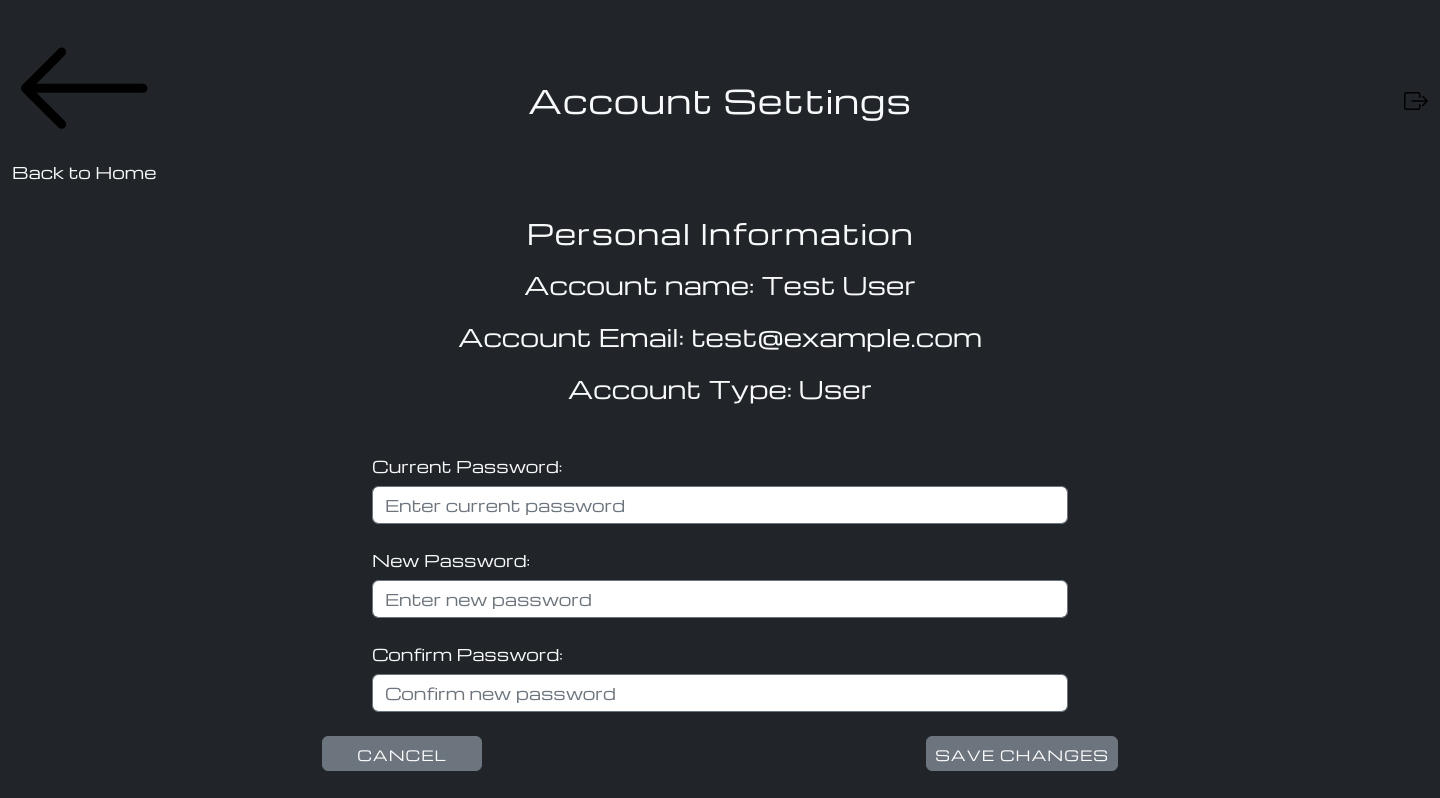
it: AccountSettings Component › handles password change API error
The image size is (1440, 798).
# Fill out form
Type "wrongpassword" into the password field labelled "Current Password:" at (720, 505), box [372,486,1068,524]
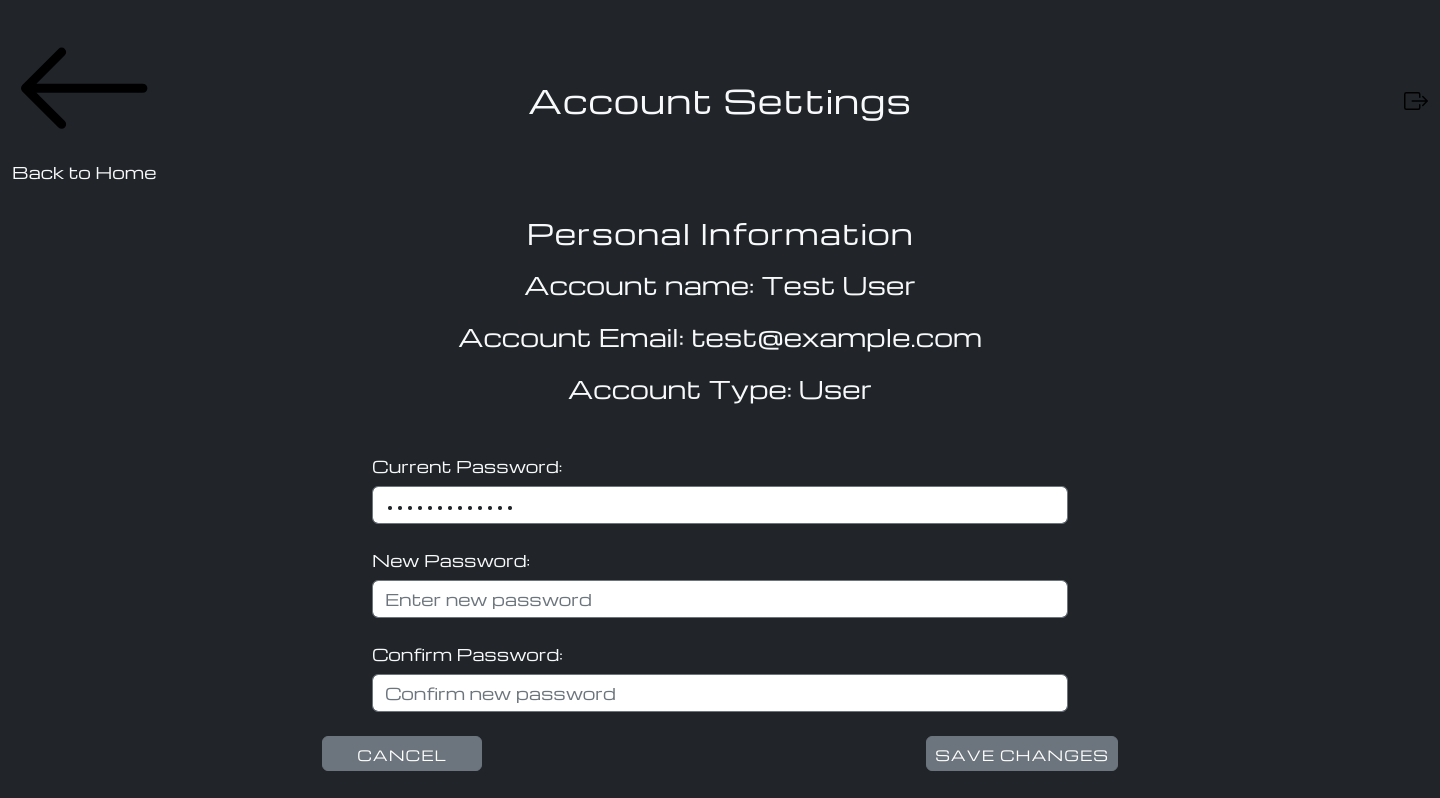
Type "newpassword123" into the password field labelled "New Password:" at (720, 599), box [372,580,1068,618]
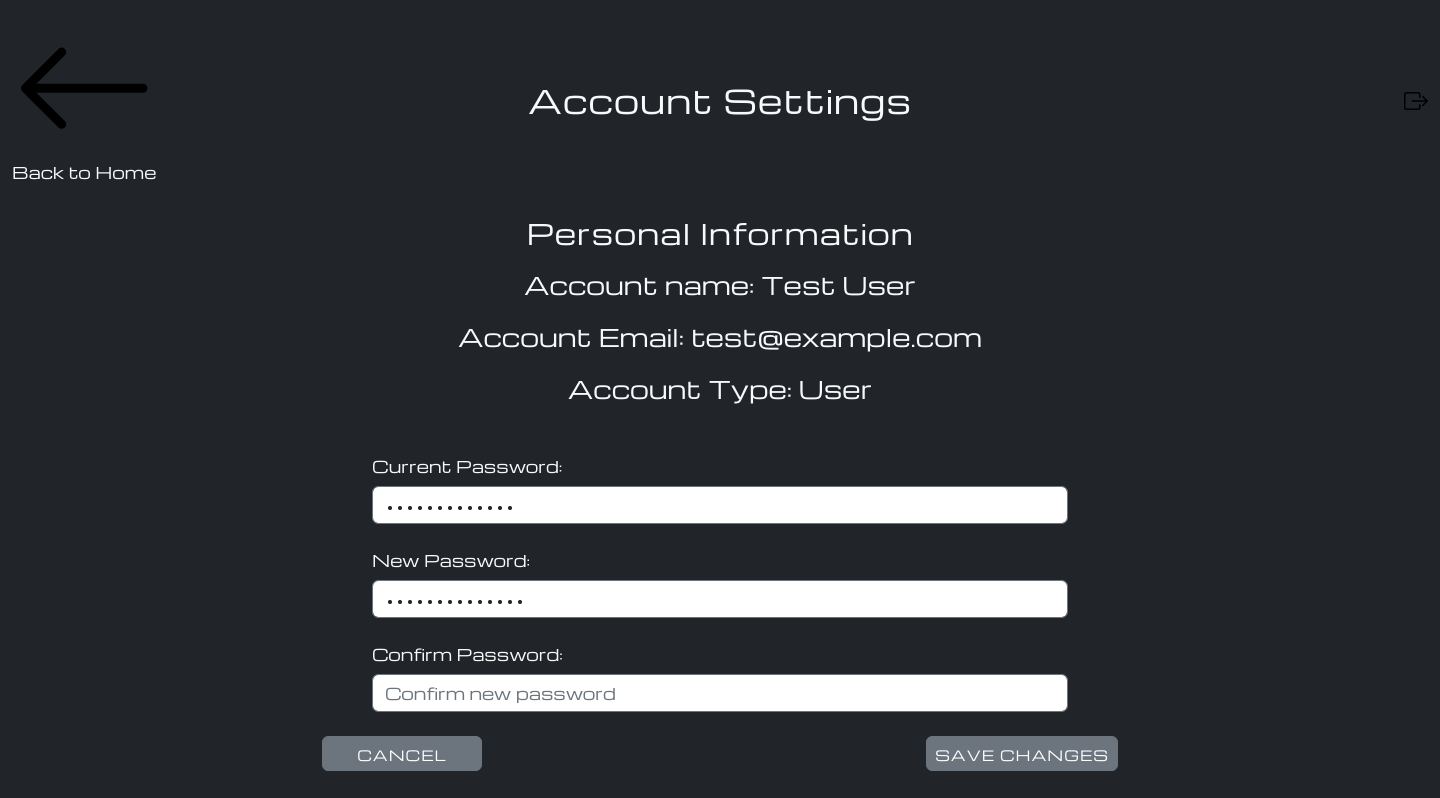
Type "newpassword123" into the password field labelled "Confirm Password:" at (720, 693), box [372,674,1068,712]
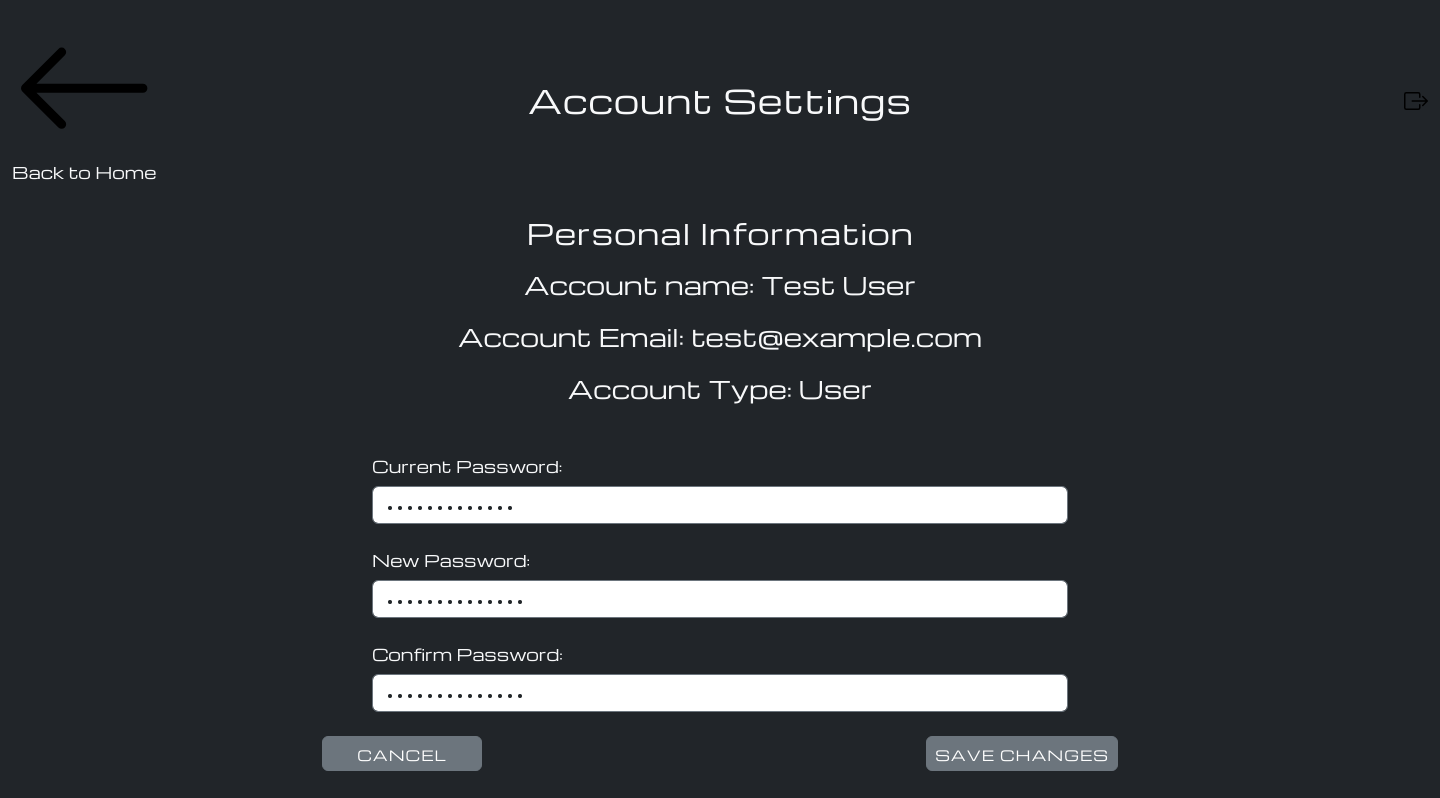
Click the button "Save Changes" at (1022, 754), box [926,736,1118,771]
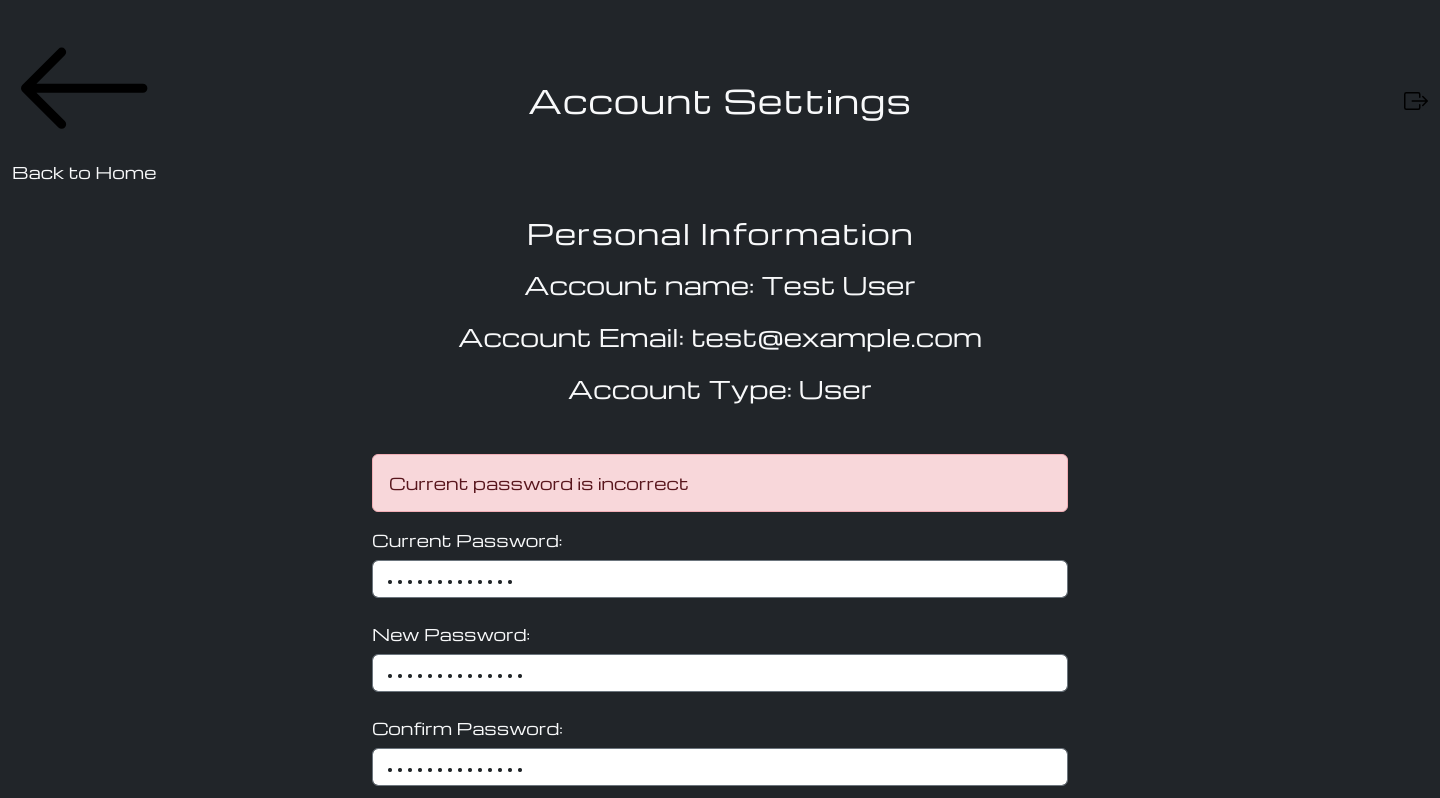
Now the text "Current password is incorrect" is shown, box [372,454,1068,512]
